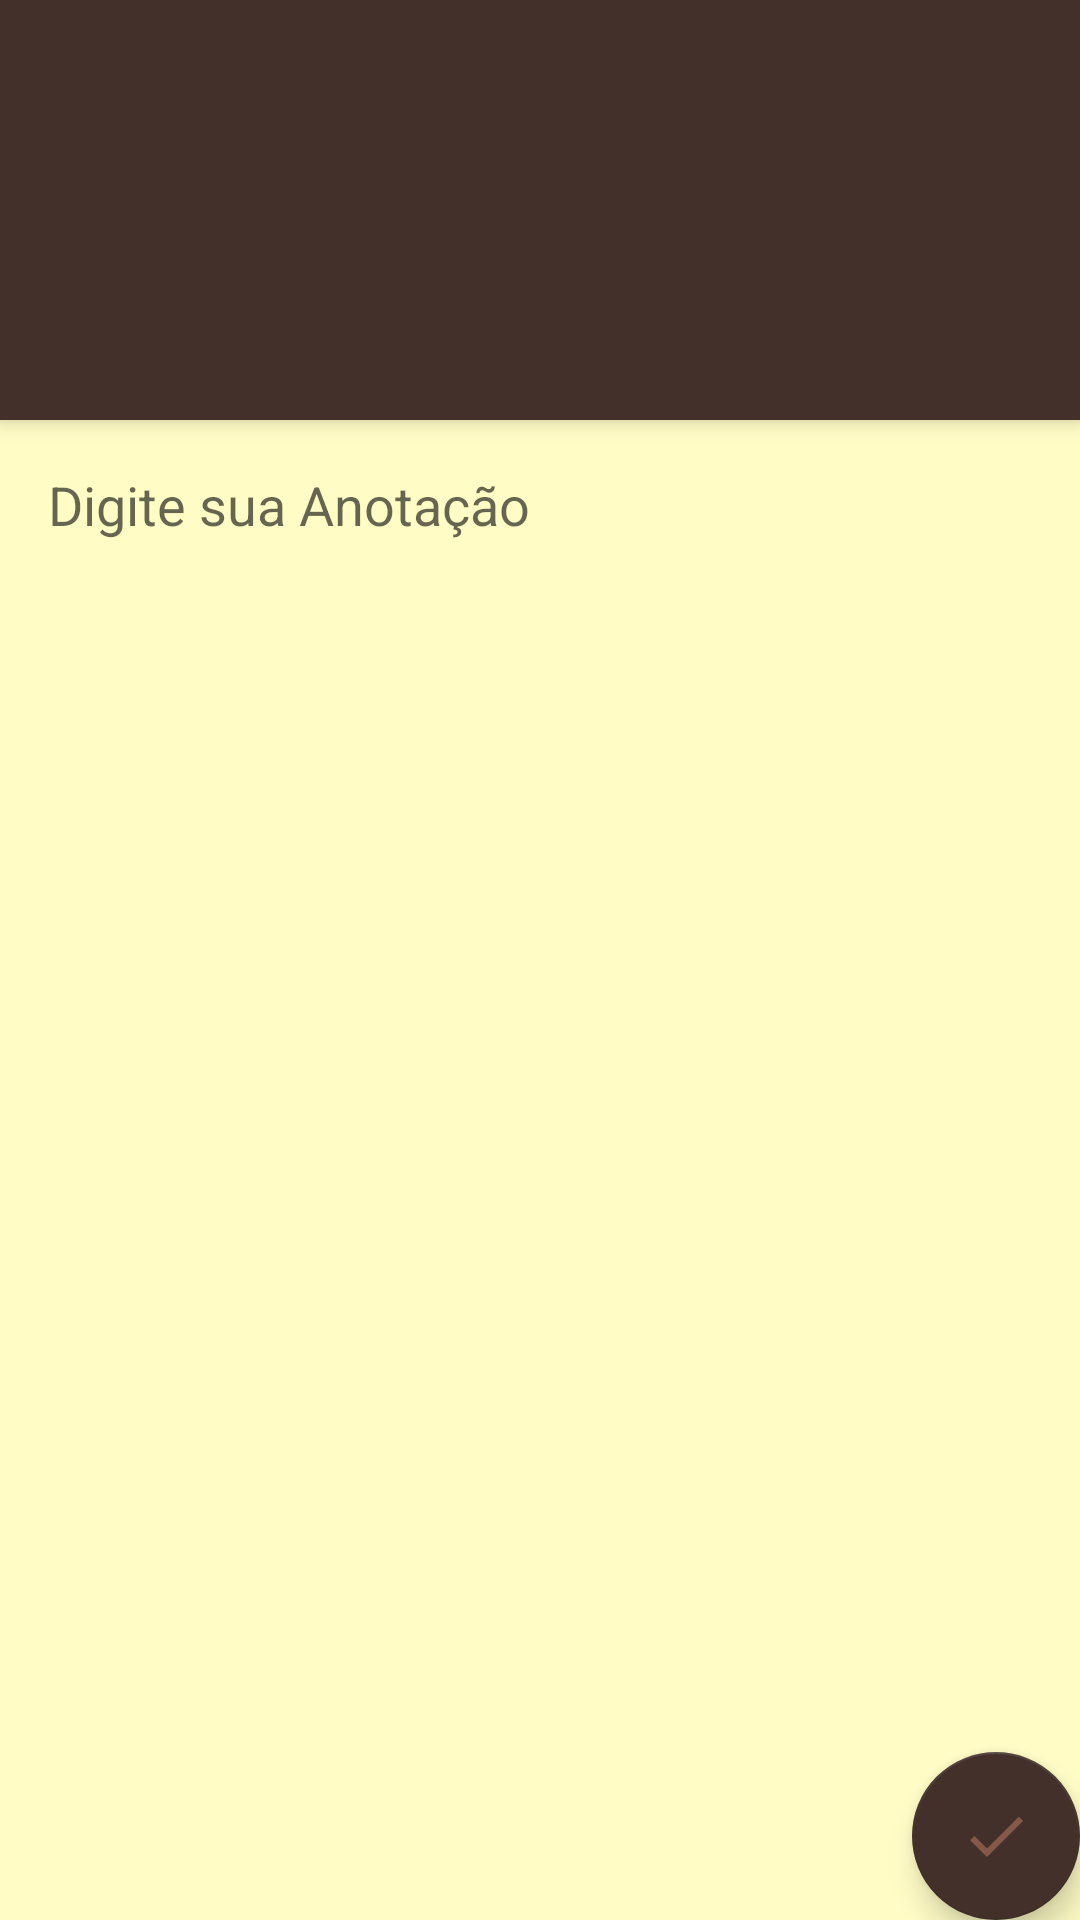

Icon click points for this 1080w x 1920h phone screenshot, format point (x, y):
confirmar done: point (996, 1836)
